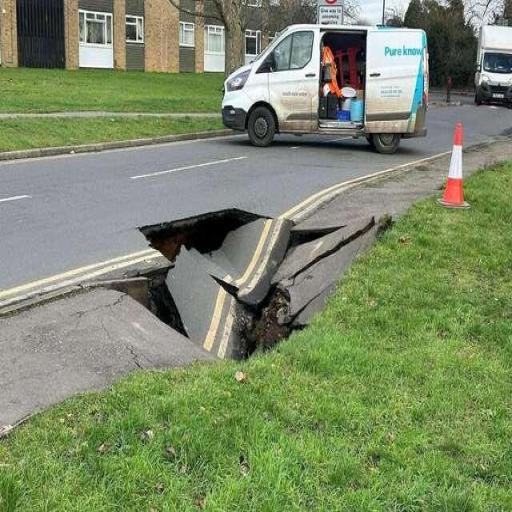Concentric_Crack: (100, 209, 377, 358)
